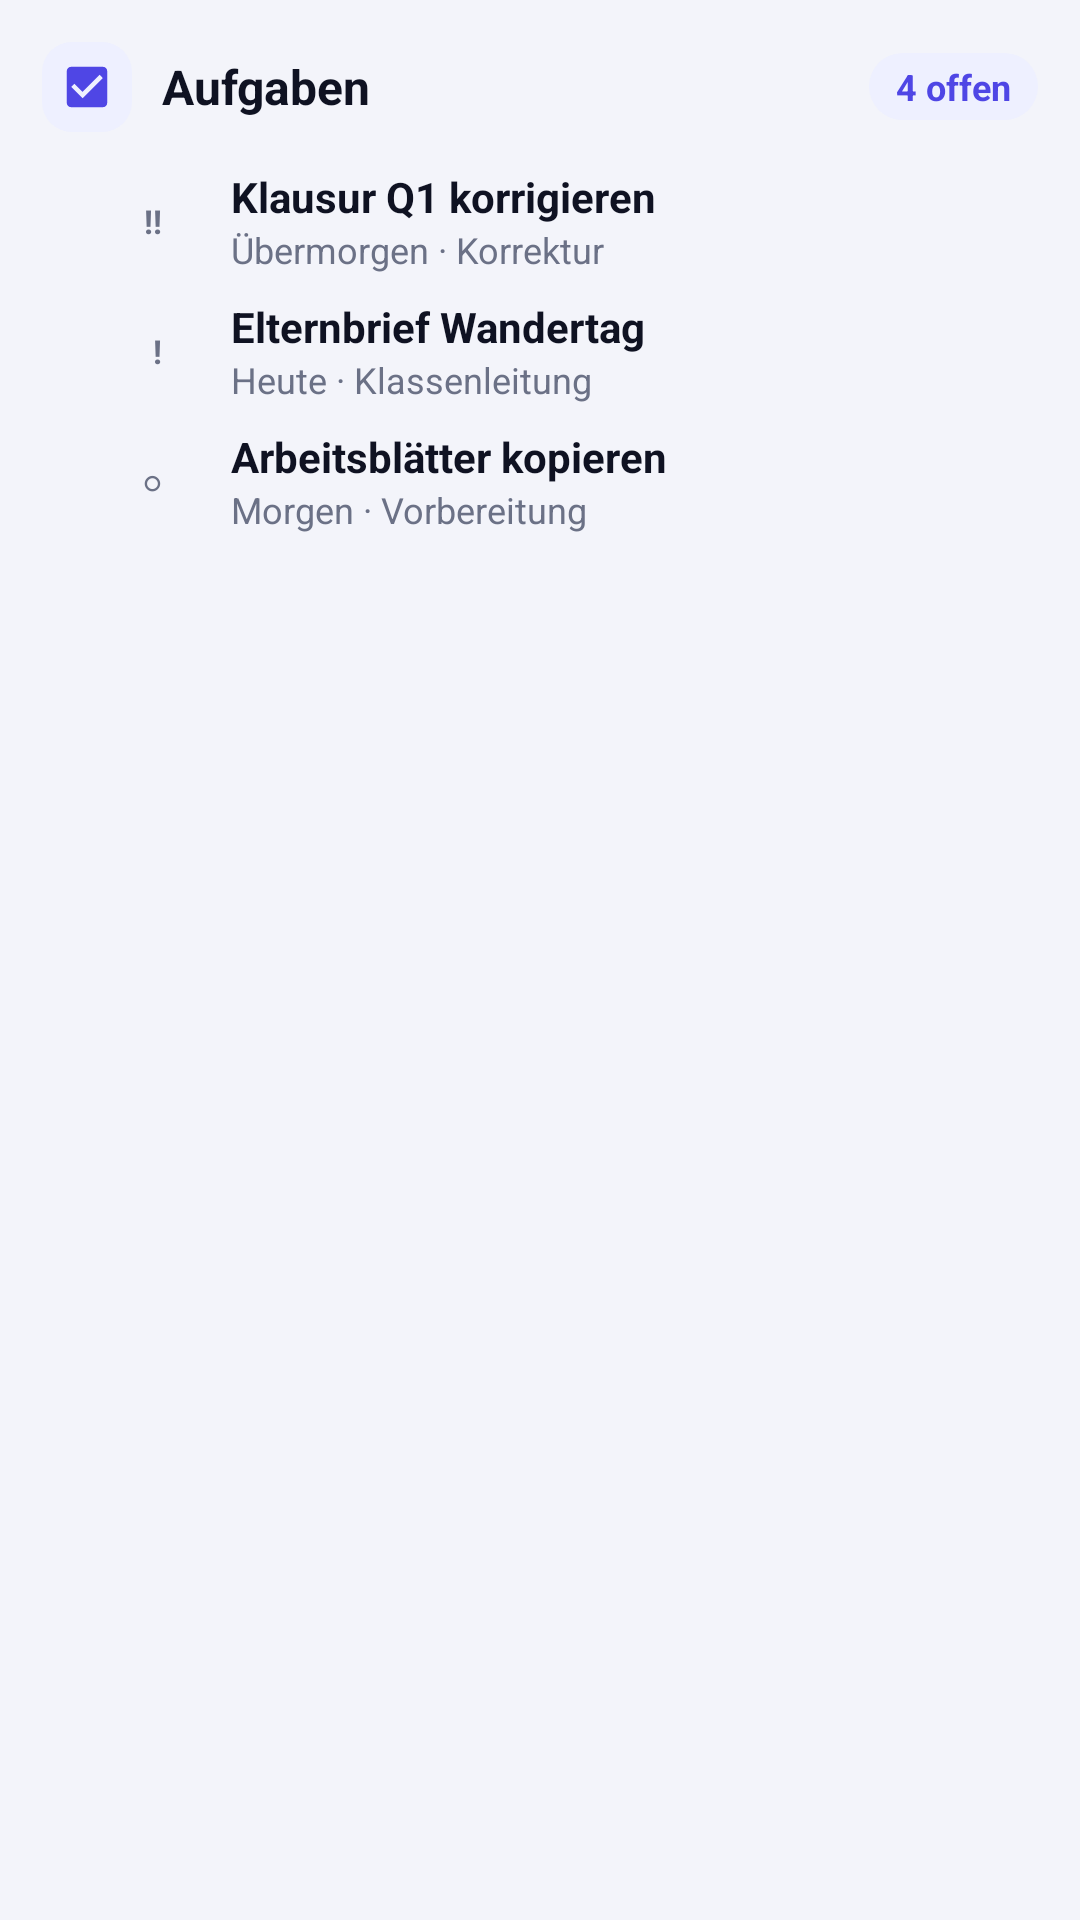

Where icons sit on this 1080x1920 app screen, as rect(x1, y1, x2, y2):
tasks: rect(66, 66, 108, 108)
